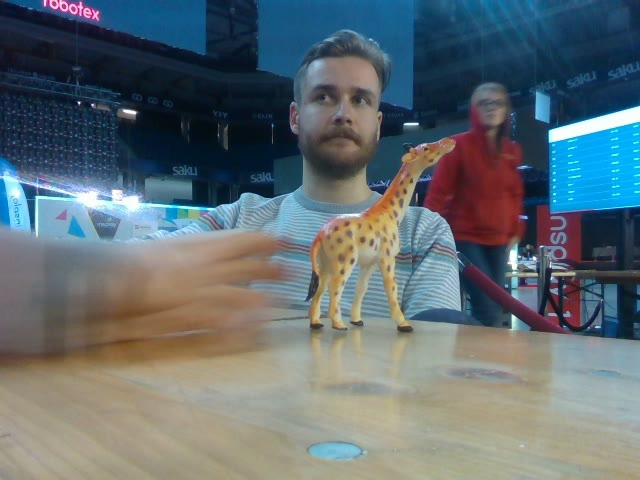toy: (306, 136, 457, 333)
